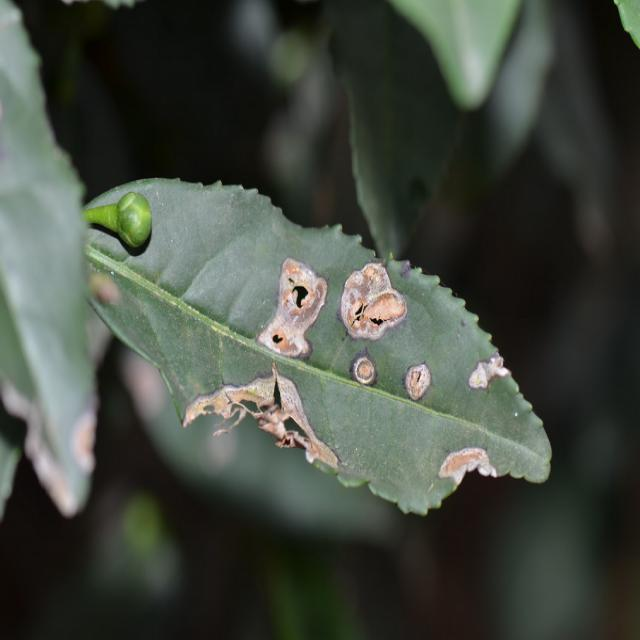Tea cloud leaf blight: (168, 366, 343, 474), (236, 245, 332, 366), (339, 254, 415, 340), (437, 435, 499, 489), (334, 341, 397, 390), (464, 331, 514, 391), (407, 358, 433, 405)
